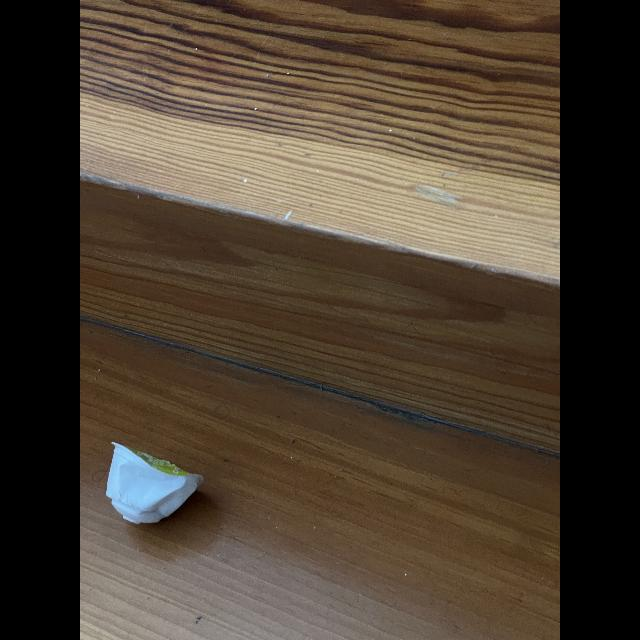damaged_capsule: (94, 437, 214, 537)
